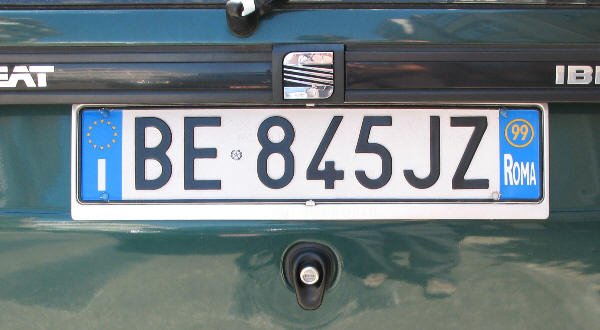license_plate: (75, 103, 544, 203)
